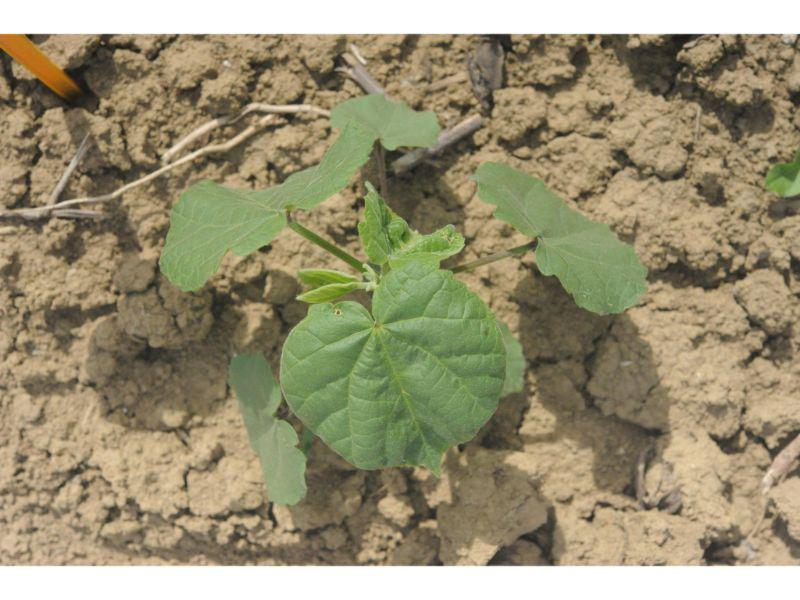velvet: (158, 92, 643, 507)
